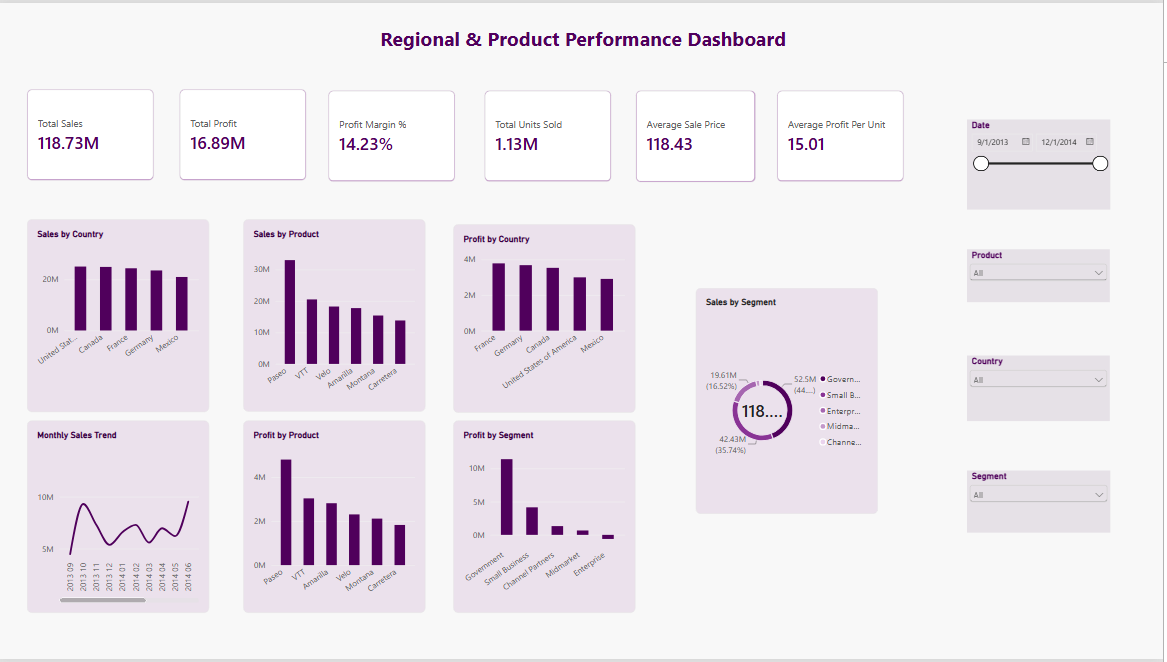

This screenshot's page, from the dashboard's own definition file:
{"tool":"powerbi","page":{"name":"Page 1","canvas":[1920,1080],"ordinal":0},"visuals":[{"type":"textbox","box":[10.3,37,1910.1,67.9],"z":0},{"type":"cardVisual","fields":{"Data":["financials.Total Sales"]},"box":[48.7,141,209.1,150],"z":1000},{"type":"cardVisual","fields":{"Data":["financials.Total Profit"]},"box":[300,141,209,150],"z":2000},{"type":"cardVisual","fields":{"Data":["financials.Profit Margin %"]},"box":[546.2,143.6,209,150],"z":3000},{"type":"cardVisual","fields":{"Data":["financials.Total Units Sold"]},"box":[802.6,143.6,209,150],"z":4000},{"type":"cardVisual","fields":{"Data":["financials.Average Sale Price"]},"box":[1051.3,143.6,197.4,151.3],"z":5000},{"type":"cardVisual","fields":{"Data":["financials.Average Profit Per Unit"]},"box":[1284.6,143.6,209,150],"z":6000},{"type":"clusteredColumnChart","title":" Sales by Country","fields":{"Category":["financials.Country"],"Y":["financials.Total Sales"]},"box":[48.7,356.4,300,317.9],"z":7000},{"type":"clusteredColumnChart","title":"Sales by Product","fields":{"Category":["financials.Product"],"Y":["financials.Total Sales"]},"box":[405.1,356.4,300,317],"z":8000},{"type":"clusteredColumnChart","title":" Profit by Country","fields":{"Category":["financials.Country"],"Y":["financials.Total Profit"]},"box":[751.3,364.1,300,310],"z":9000},{"type":"donutChart","title":"Sales by Segment","fields":{"Category":["financials.Segment"],"Y":["financials.Total Sales"]},"box":[1151.3,469.2,300,371.8],"z":10000},{"type":"clusteredColumnChart","title":" Profit by Segment","fields":{"Category":["financials.Segment"],"Y":["financials.Total Profit"]},"box":[751.3,687.2,300,317],"z":11000},{"type":"lineChart","title":"Monthly  Sales Trend ","fields":{"Category":["Calendar Table.Month Year"],"Y":["financials.Total Sales"]},"box":[49,687,300,317],"z":12000},{"type":"clusteredColumnChart","title":"Profit by Product","fields":{"Category":["financials.Product"],"Y":["financials.Total Profit"]},"box":[405.1,687.2,300,317],"z":13000},{"type":"slicer","fields":{"Values":["Calendar Table.Date"]},"box":[1597.4,192.3,235.9,148.7],"z":14000},{"type":"slicer","fields":{"Values":["financials.Product"]},"box":[1597.4,405.1,235,87.2],"z":15000},{"type":"slicer","fields":{"Values":["financials.Country"]},"box":[1597.4,579.5,235,107.7],"z":16000},{"type":"slicer","fields":{"Values":["financials.Segment"]},"box":[1597.4,769.2,235.9,102.6],"z":17000}]}

Visuals, with their boxes in screenshot pixels (x1, y1, x2, y2), scaled from the page's 1920x1080 canvas onto the 1167x662 screenshot:
textbox: (6,23,1166,64)
cardVisual - financials.Total Sales: (30,86,157,178)
cardVisual - financials.Total Profit: (182,86,309,178)
cardVisual - financials.Profit Margin %: (332,88,459,180)
cardVisual - financials.Total Units Sold: (488,88,615,180)
cardVisual - financials.Average Sale Price: (639,88,759,181)
cardVisual - financials.Average Profit Per Unit: (781,88,908,180)
" Sales by Country" clusteredColumnChart: (30,218,212,413)
"Sales by Product" clusteredColumnChart: (246,218,429,413)
" Profit by Country" clusteredColumnChart: (457,223,639,413)
"Sales by Segment" donutChart: (700,288,882,516)
" Profit by Segment" clusteredColumnChart: (457,421,639,616)
"Monthly  Sales Trend " lineChart: (30,421,212,615)
"Profit by Product" clusteredColumnChart: (246,421,429,616)
slicer - Calendar Table.Date: (971,118,1114,209)
slicer - financials.Product: (971,248,1114,302)
slicer - financials.Country: (971,355,1114,421)
slicer - financials.Segment: (971,471,1114,534)
